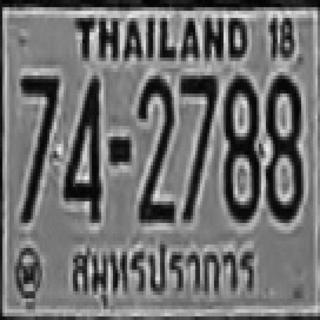N02: (136, 74, 172, 221)
N04: (62, 72, 100, 219)
N07: (18, 74, 58, 221), (179, 74, 217, 221), (20, 72, 58, 176)
N08: (263, 72, 301, 219), (221, 72, 259, 219)
P57: (64, 233, 262, 312)
